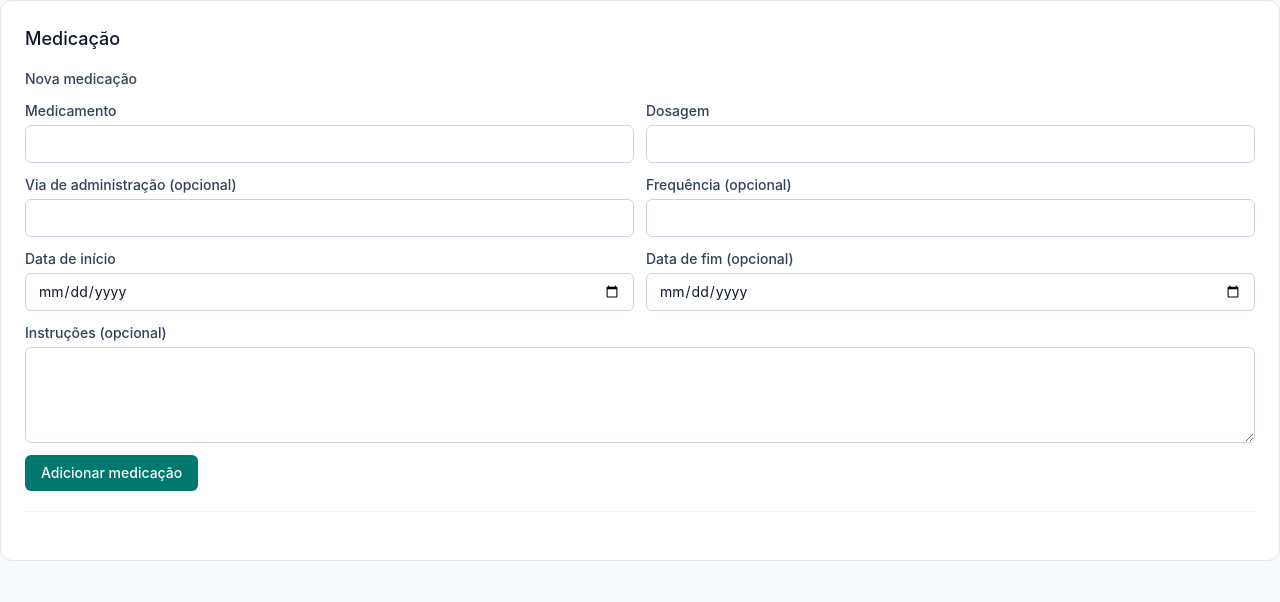
Test case: MedicationsSection › create › blocks an end date before the start date
The width and height of the screenshot is (1280, 602).
Type "Paracetamol" into the field labelled "Medicamento".
click(330, 144); type("Paracetamol")  # box left=25, top=125, right=634, bottom=163
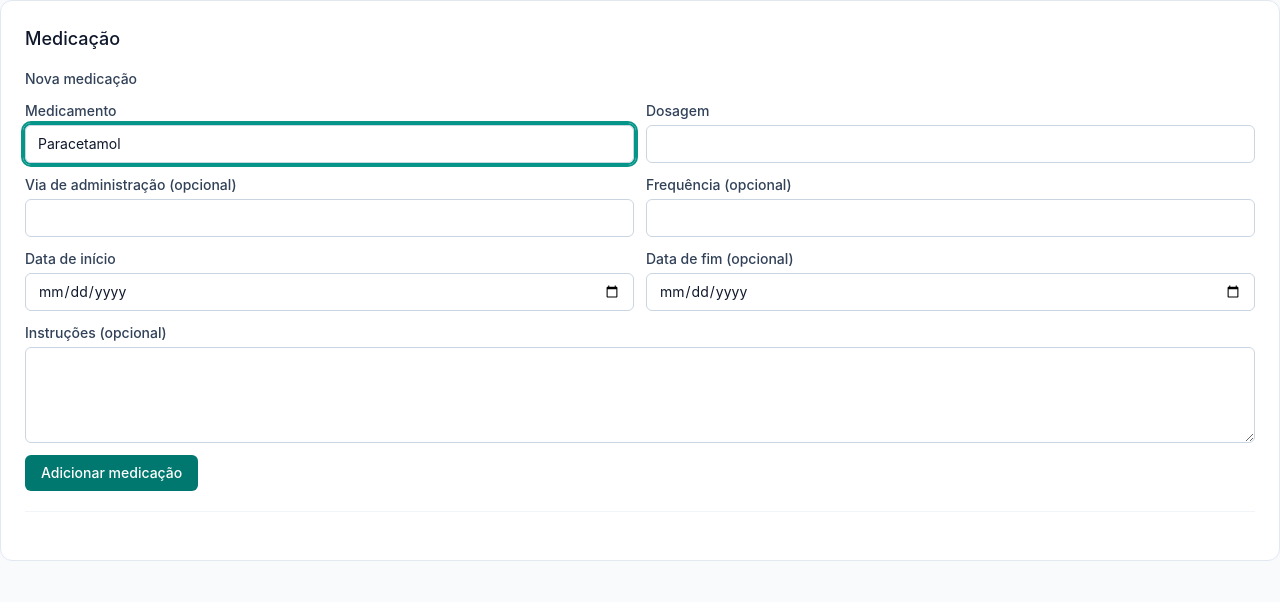
Type "1 g" into the field labelled "Dosagem".
click(950, 144); type("1 g")  # box left=646, top=125, right=1255, bottom=163
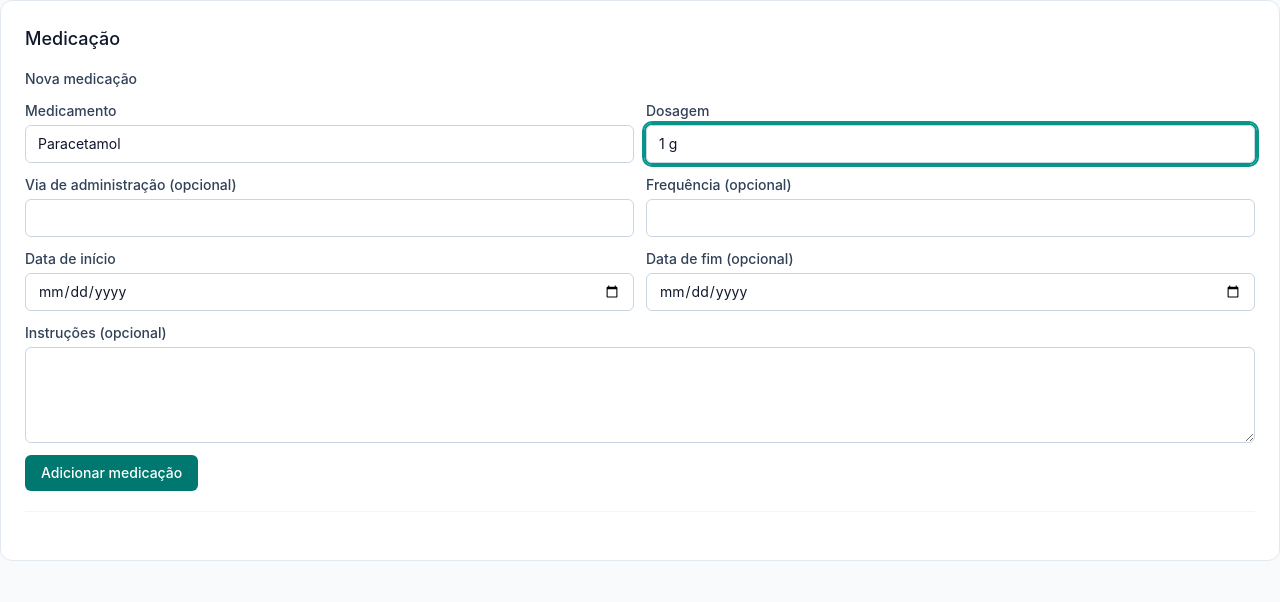
Type "2026-10-01" into the date field labelled "Data de início".
click(330, 292); type("2026-10-01")  # box left=25, top=273, right=634, bottom=311
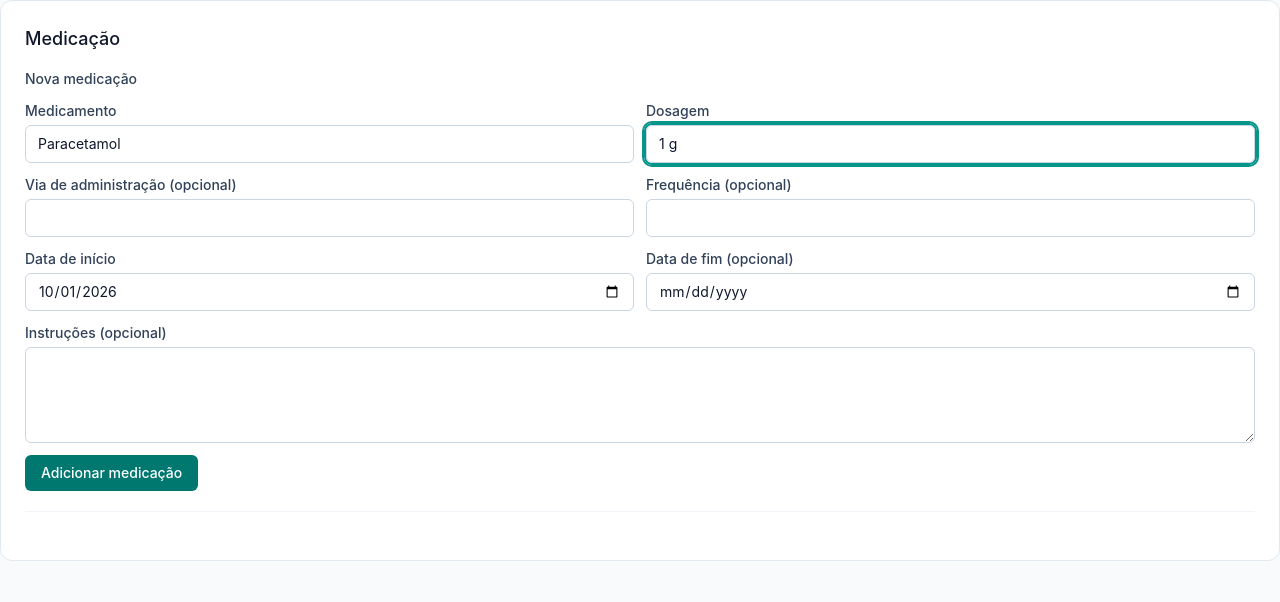
Type "2026-09-01" into the date field labelled "Data de fim (opcional)".
click(950, 292); type("2026-09-01")  # box left=646, top=273, right=1255, bottom=311
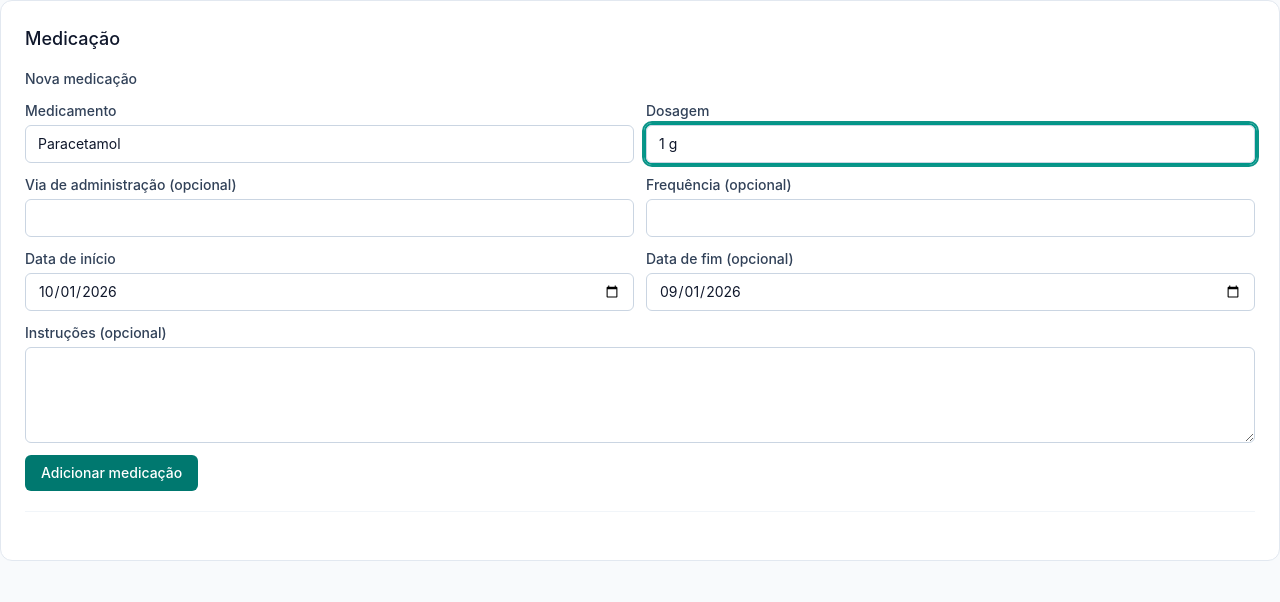
Click the button "Adicionar medicação".
click(112, 473)  # box left=25, top=455, right=198, bottom=491
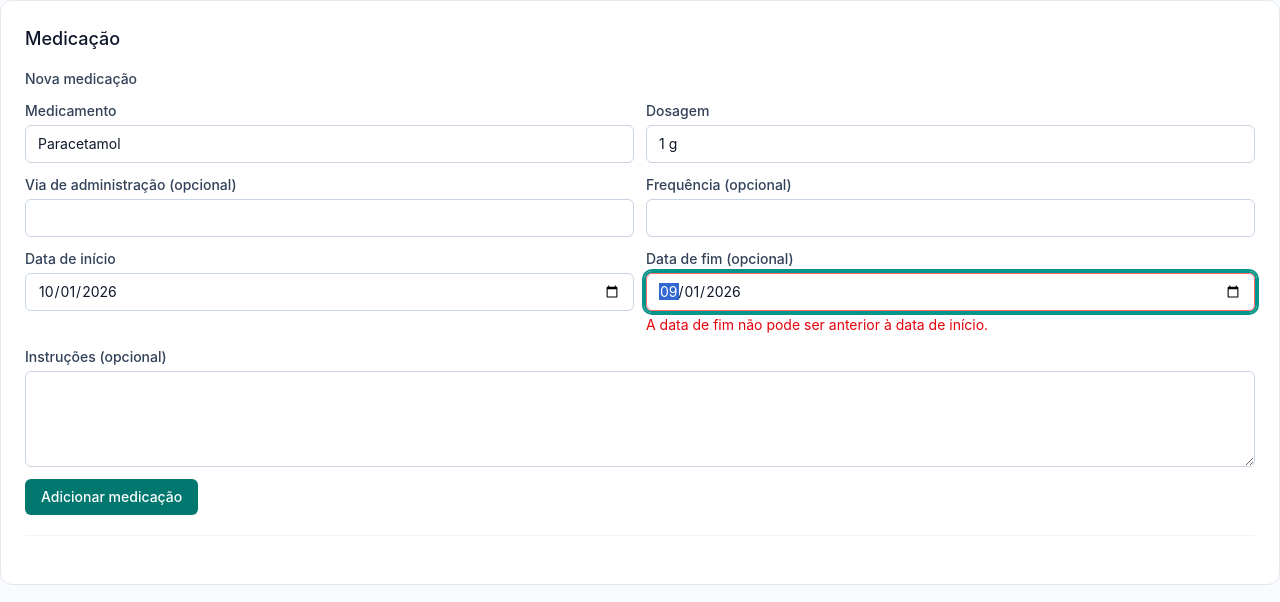
Expected: the text "A data de fim não pode ser anterior à data de início." is shown, left=646, top=316, right=988, bottom=333
